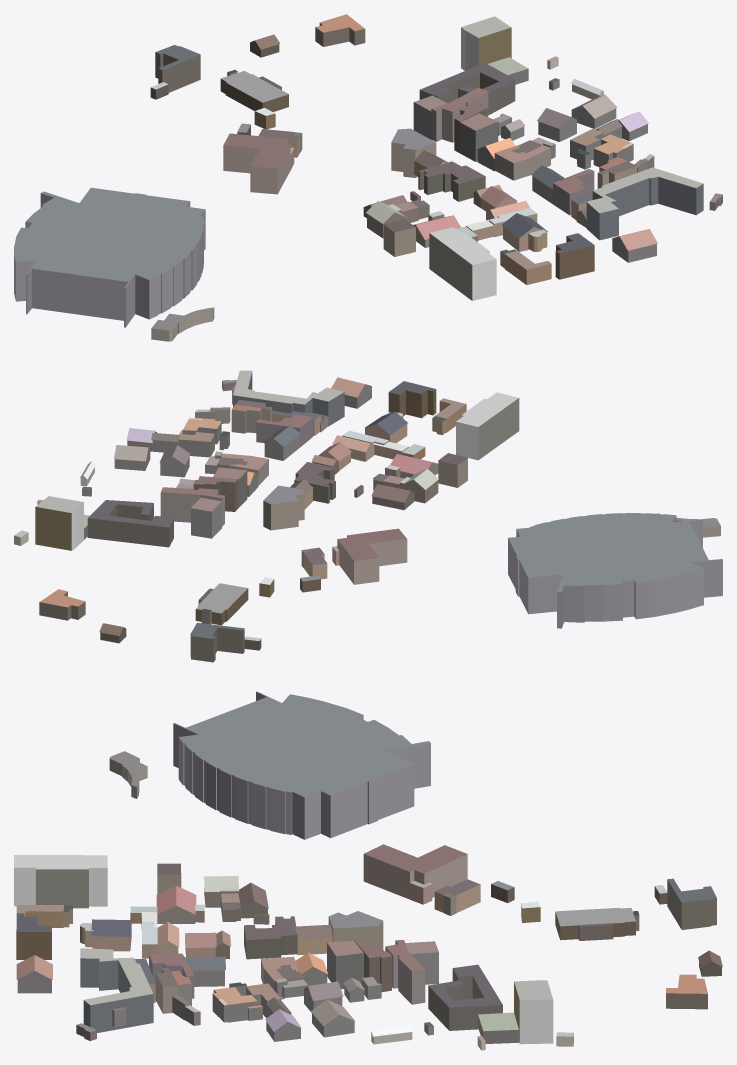
The picture shows the model from 3 angles, top to bottom: view 1: azimuth 30°, elevation 25°; view 2: azimuth 150°, elevation 25°; view 3: azimuth 270°, elevation 25°; orthographic projection. The views are drawn at different scales.
Parts seen in each view (by area): view 1: tuile; view 2: tuile; view 3: tuile.
Boxes of the visible parts, <box> form: tuile: <box>14,14,722,341</box>; tuile: <box>14,370,722,662</box>; tuile: <box>14,691,722,1050</box>.
Bounding box in the file's own units: 286 × 22.2 × 257.
